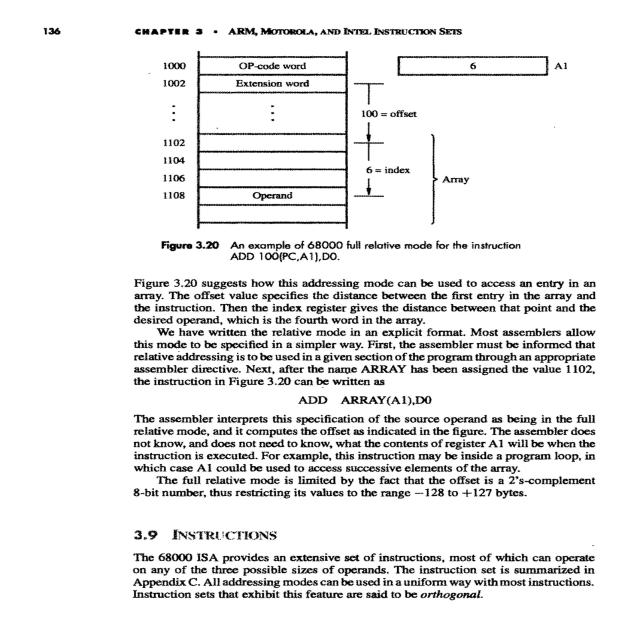diagram: (148, 45, 562, 262)
